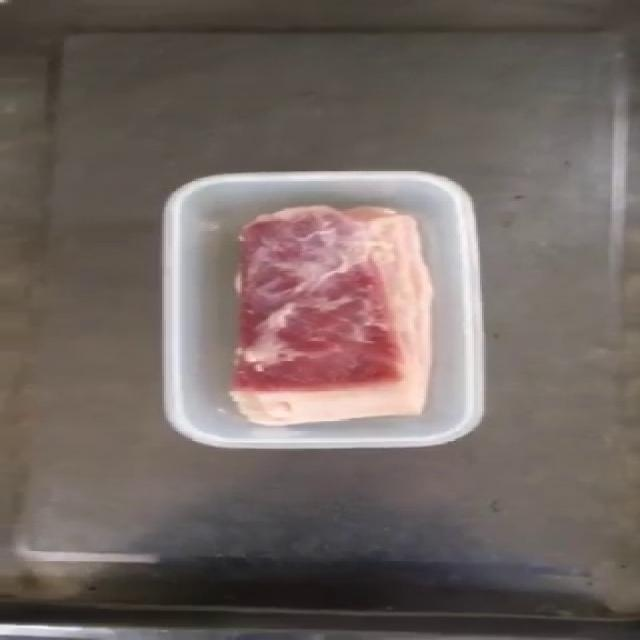Beef: (1, 0, 3, 2)
